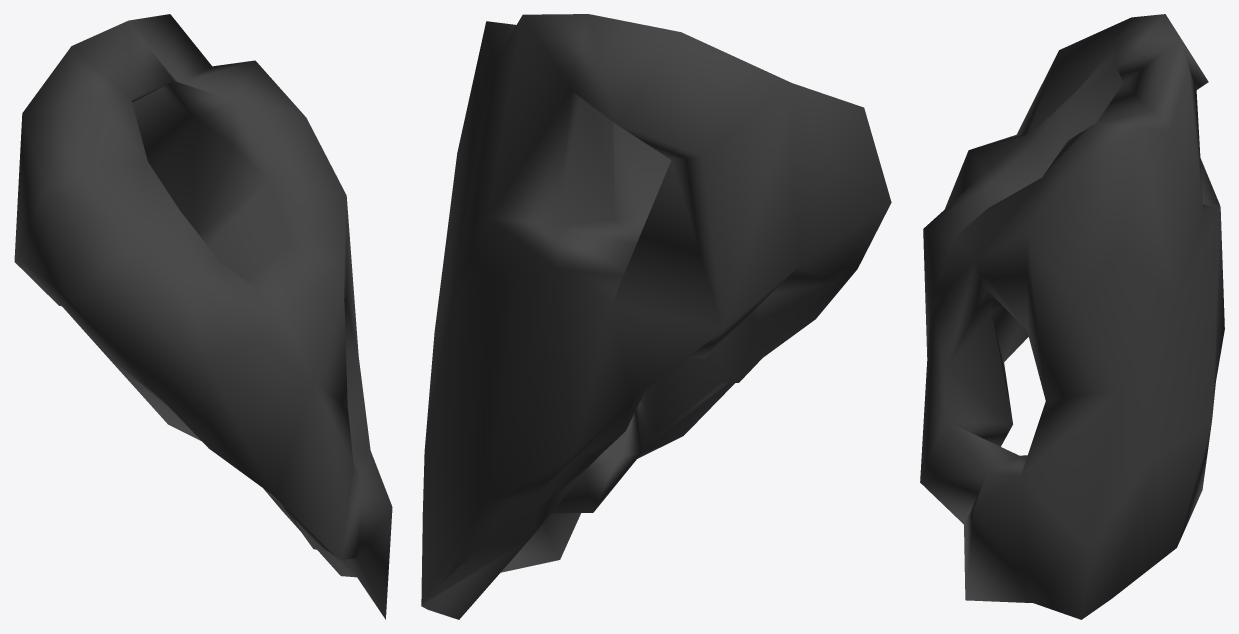
Rendered from spire-1.glb.
3 renders of one model, left to right at view 1: azimuth 30°, elevation 25°; view 2: azimuth 150°, elevation 25°; view 3: azimuth 270°, elevation 25°, orthographic. The views are drawn at different scales.
Parts seen in each view (by area): view 1: geometry_0; view 2: geometry_0; view 3: geometry_0.
Part boxes in pixels (bbox=[...]): geometry_0: bbox=[14, 14, 392, 619]; geometry_0: bbox=[421, 14, 891, 619]; geometry_0: bbox=[920, 14, 1224, 619].
Bounding box in the file's own units: 0.6221 × 1 × 0.5477.
1 material, 1 textured.
